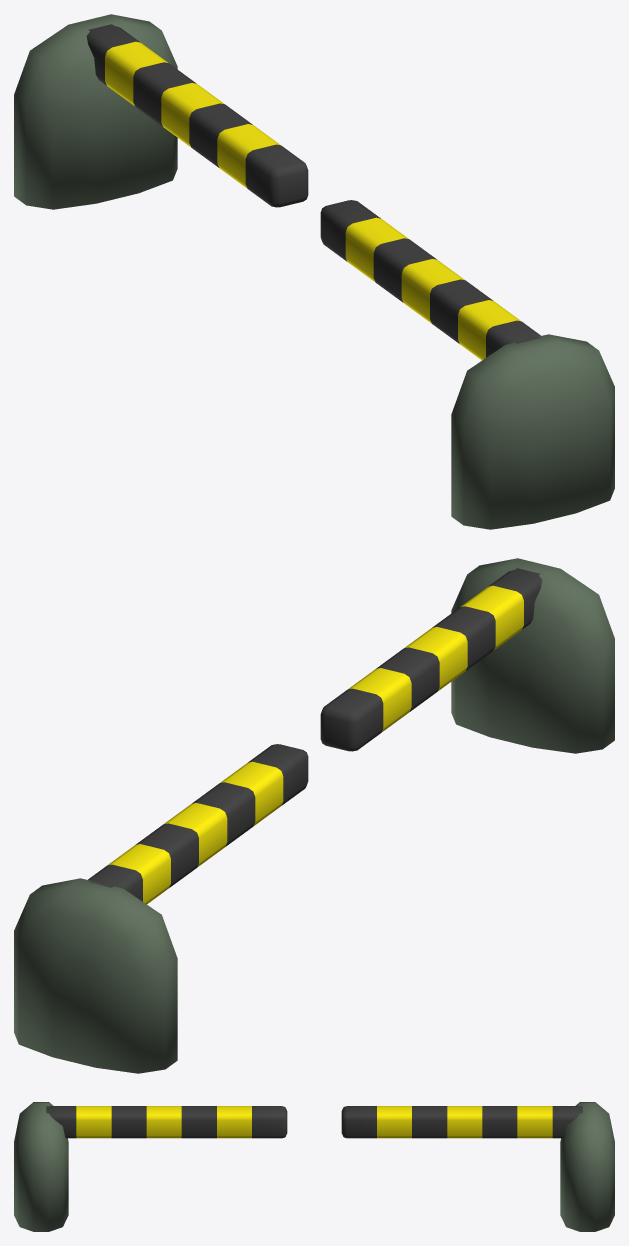
The model's file is Gişe.fbx.
3 views of the same model, one above another, from view 1: azimuth 30°, elevation 25°; view 2: azimuth 150°, elevation 25°; view 3: azimuth 270°, elevation 25° (orthographic). The views are drawn at different scales.
Parts seen in each view (by area): view 1: Cube.002, Cube.003, Bariyer, Bariyer.001; view 2: Cube.003, Cube.002, Bariyer.001, Bariyer; view 3: Bariyer.001, Bariyer, Cube.002, Cube.003.
Boxes of the visible parts, x1,y1,x2,y2 form: Cube.002: (451,334,614,529); Cube.003: (14,14,177,209); Bariyer: (86,24,308,207); Bariyer.001: (320,200,540,360); Cube.003: (14,878,177,1073); Cube.002: (451,558,614,753); Bariyer.001: (320,568,542,751); Bariyer: (88,744,308,904); Bariyer.001: (46,1106,287,1138); Bariyer: (341,1106,582,1138); Cube.002: (14,1102,68,1231); Cube.003: (560,1102,614,1231).
Size of the model in its own units: 0.4 by 0.4 by 2.2.
